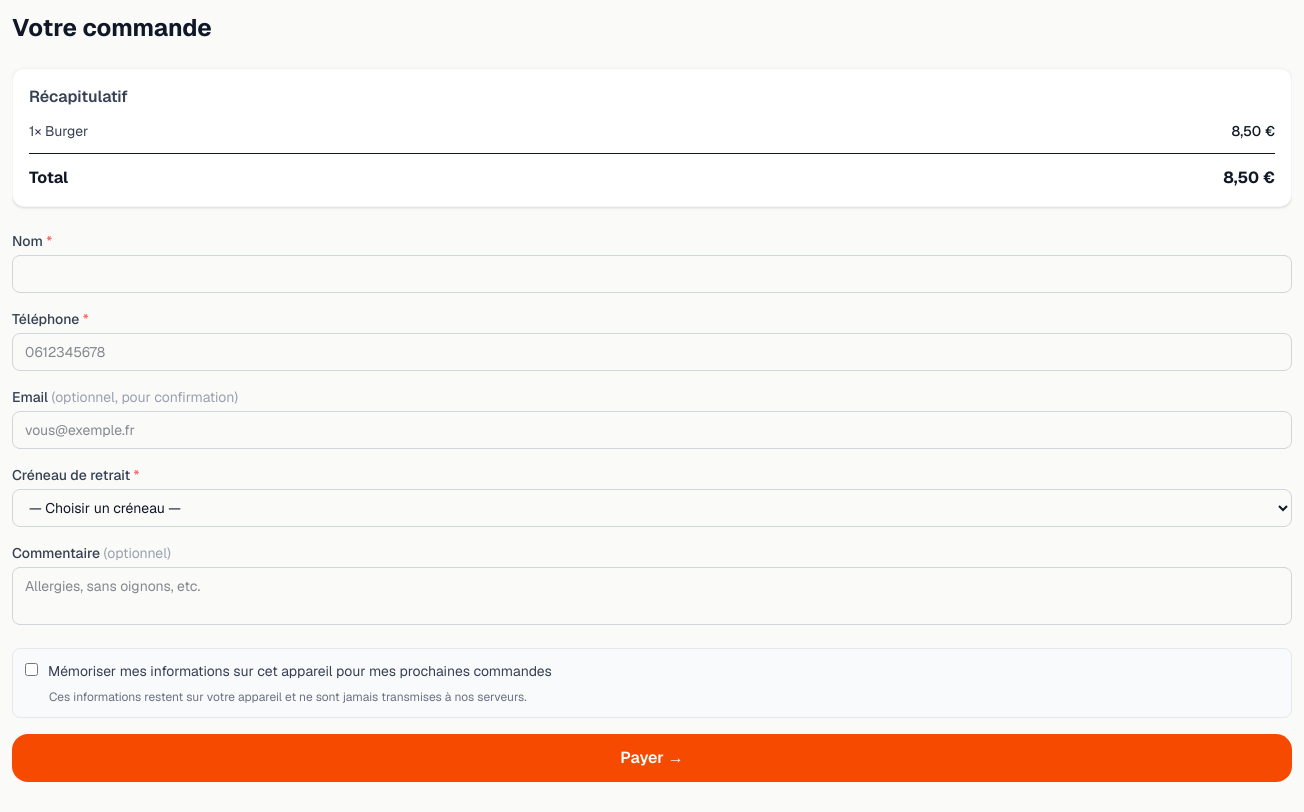
Test: FormulaireCommande › téléphone format invalide → erreur Zod
Check: the dropdown is shown, box x1=12 y1=489 x2=1292 y2=527
Type "Jean" into the field named "nom" at (652, 274), box x1=12 y1=255 x2=1292 y2=293
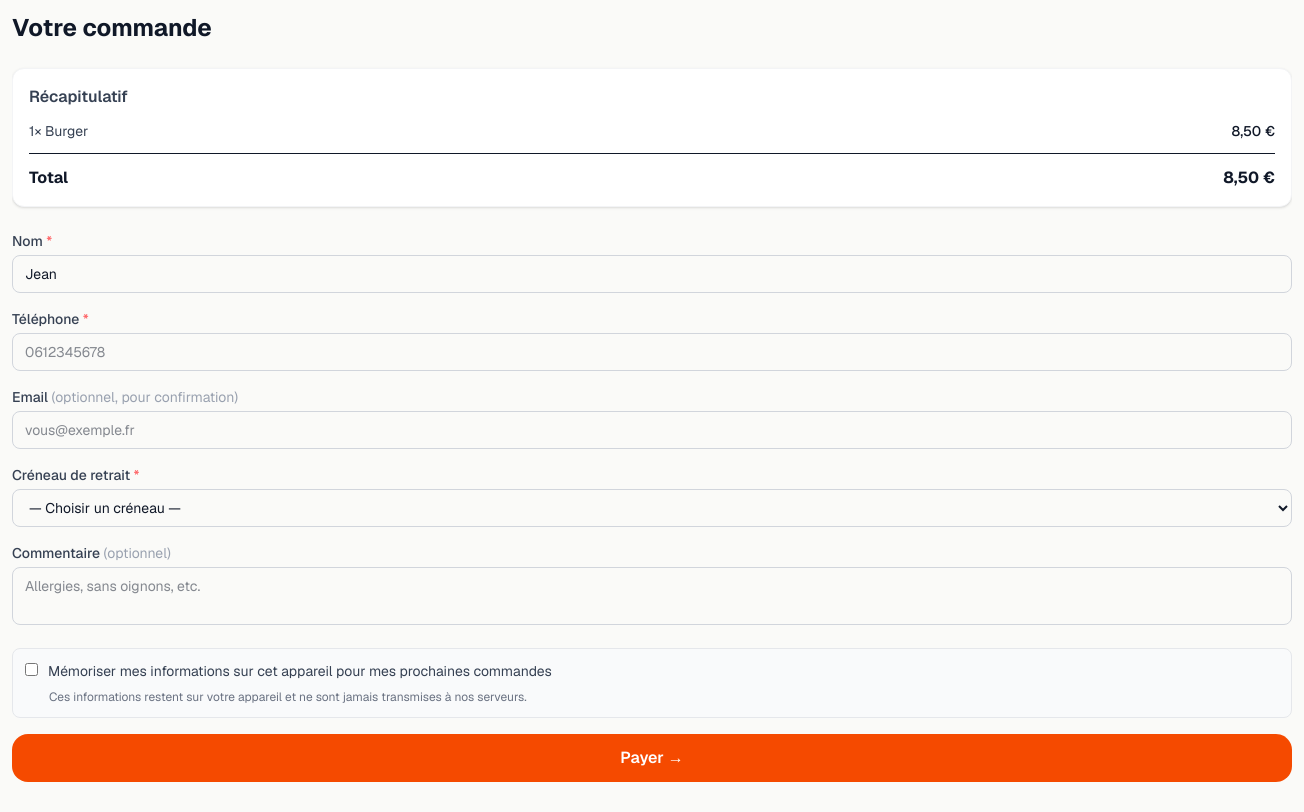
Type "123" into the field named "telephone" at (652, 352), box x1=12 y1=333 x2=1292 y2=371
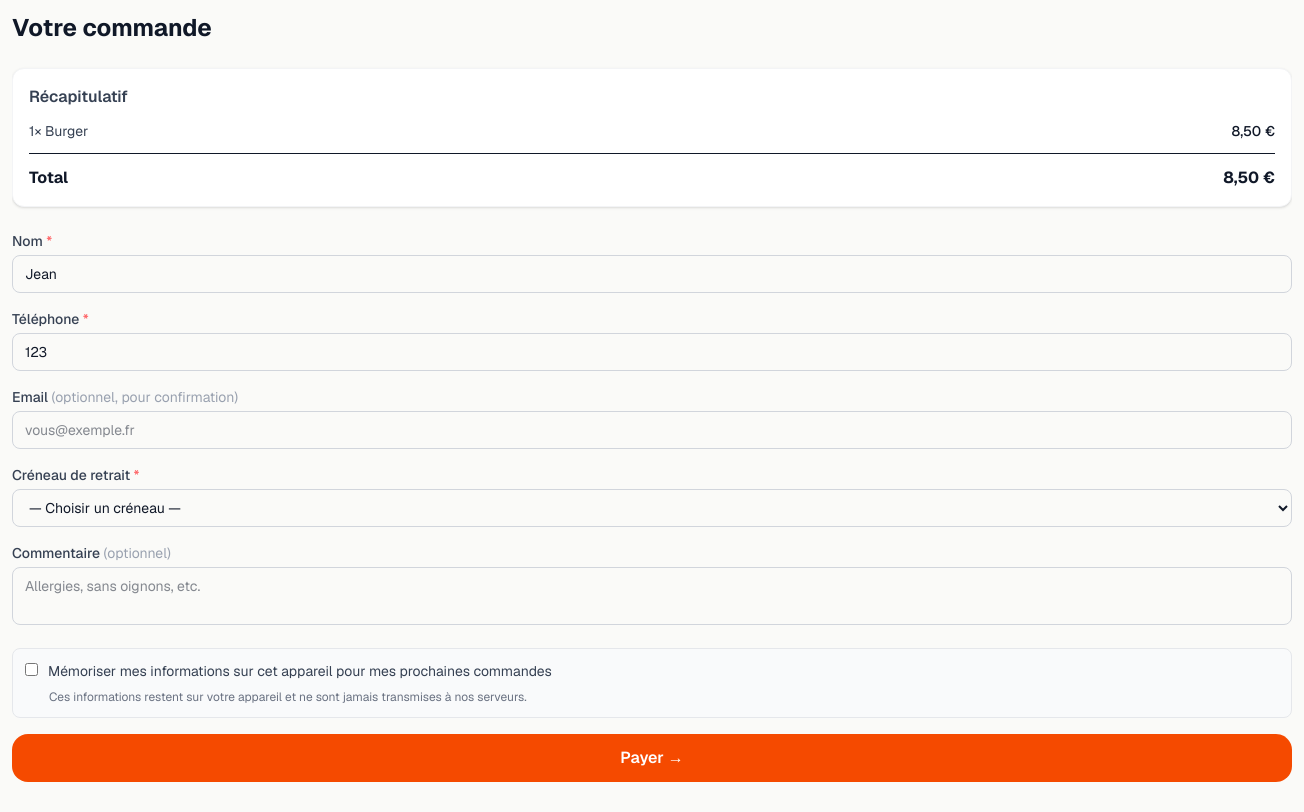
Submit the form named "payer"
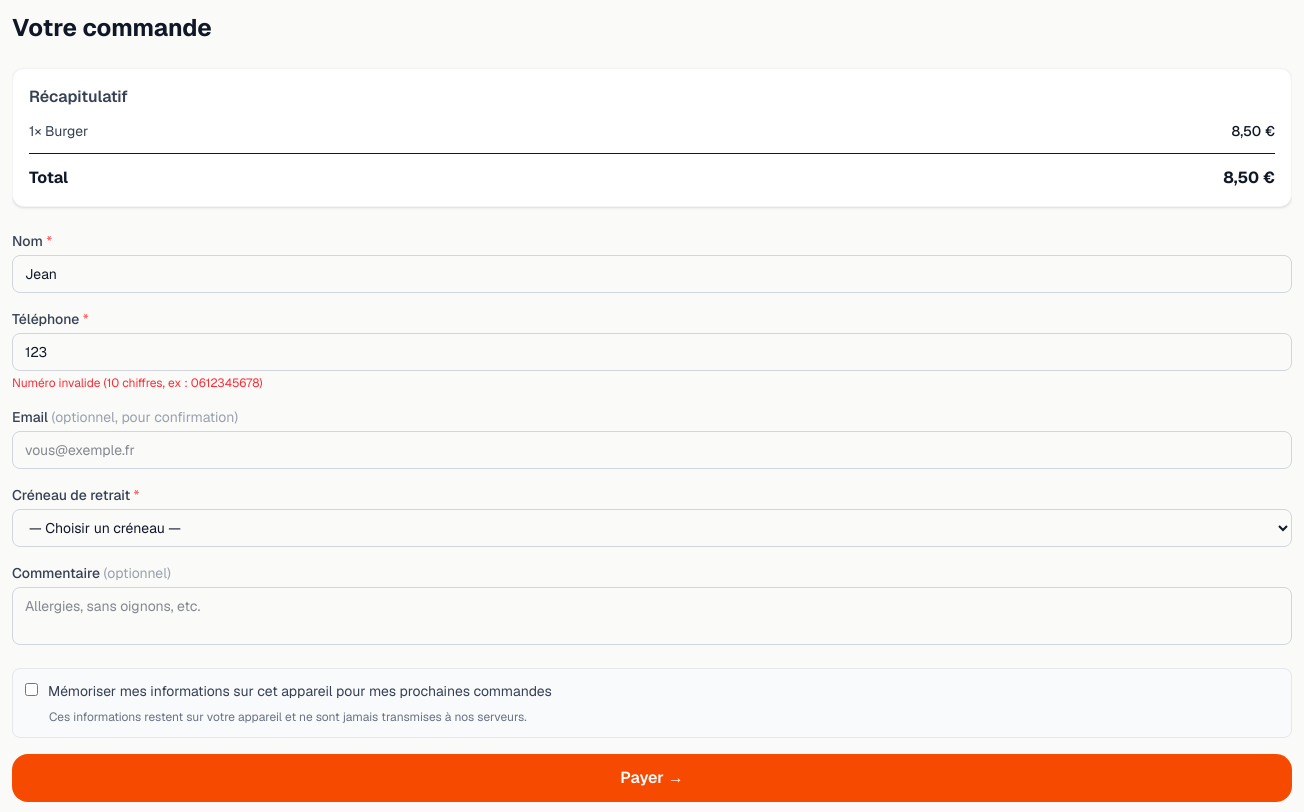
Check: the text "Numéro invalide (10 chiffres, ex : 0612345678)" is shown, box x1=12 y1=375 x2=263 y2=391
